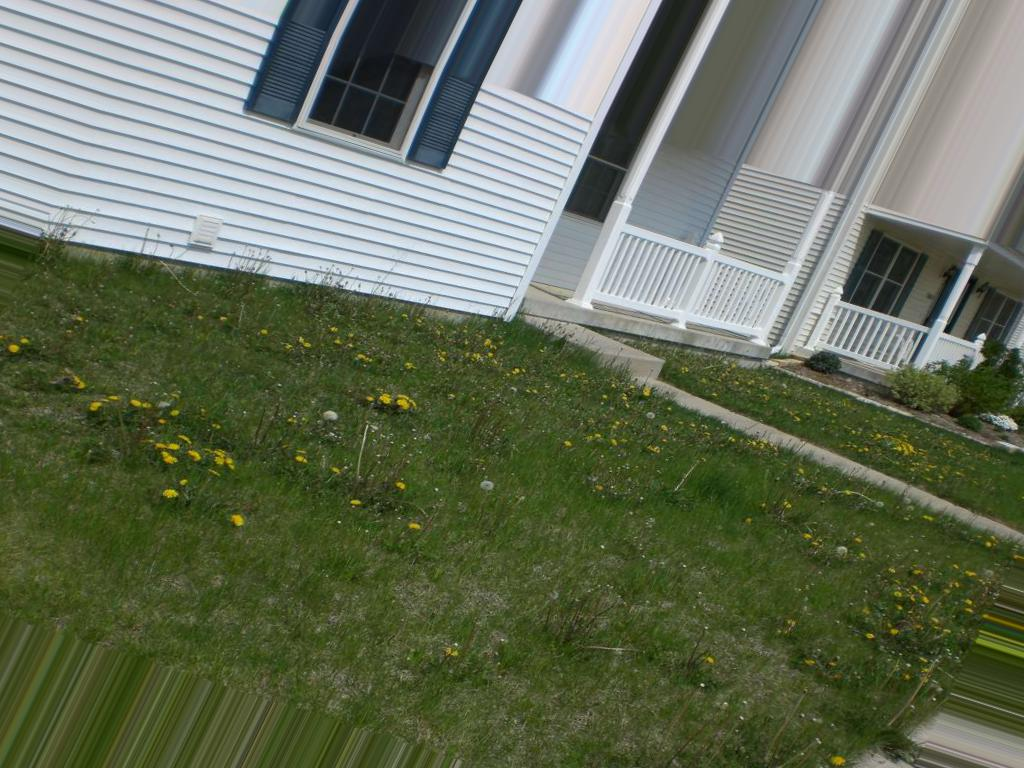patch: (580, 545, 787, 711), (17, 495, 199, 606), (29, 360, 197, 475), (388, 649, 566, 736), (267, 554, 363, 674), (387, 551, 520, 619), (212, 563, 256, 634)
